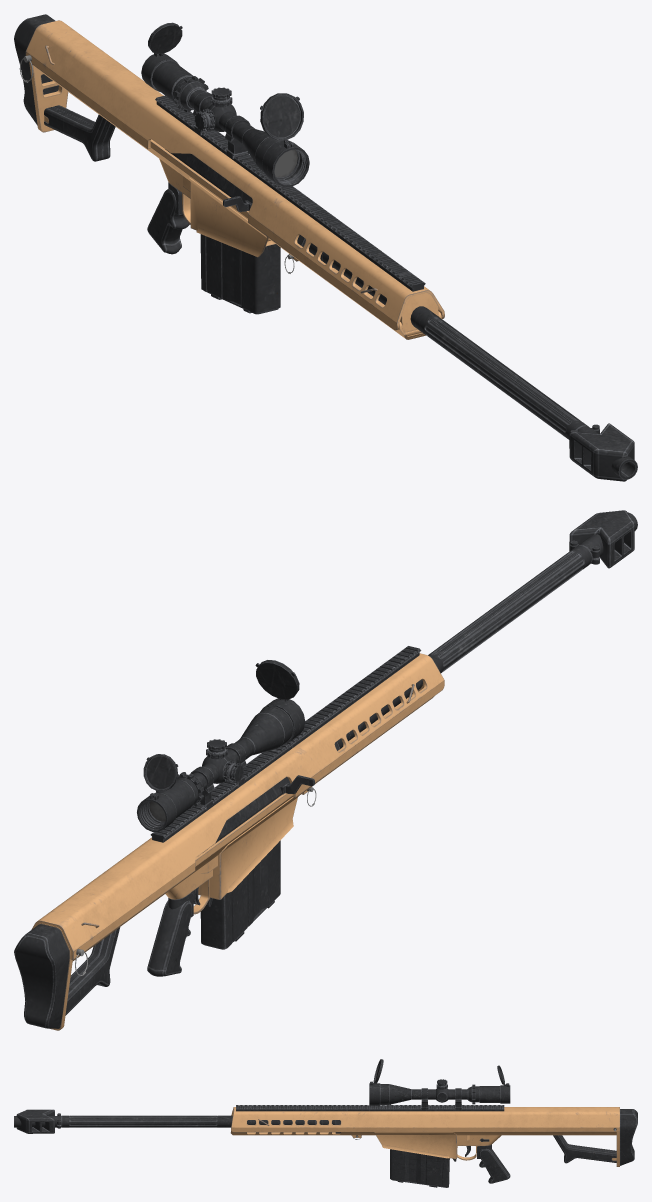
File: barrett.glb
3 renders of one model, top to bottom at view 1: azimuth 30°, elevation 25°; view 2: azimuth 150°, elevation 25°; view 3: azimuth 270°, elevation 25°, orthographic. The views are drawn at different scales.
Parts seen in each view (by area): view 1: Barret; view 2: Barret; view 3: Barret.
Part boxes in pixels (bbox=[...]): Barret: bbox=[14, 14, 637, 481]; Barret: bbox=[14, 510, 637, 1030]; Barret: bbox=[14, 1059, 637, 1187].
Size of the model in its own units: 0.1171 by 0.368 by 1.66.
Materials: 1 (1 with a texture image).
